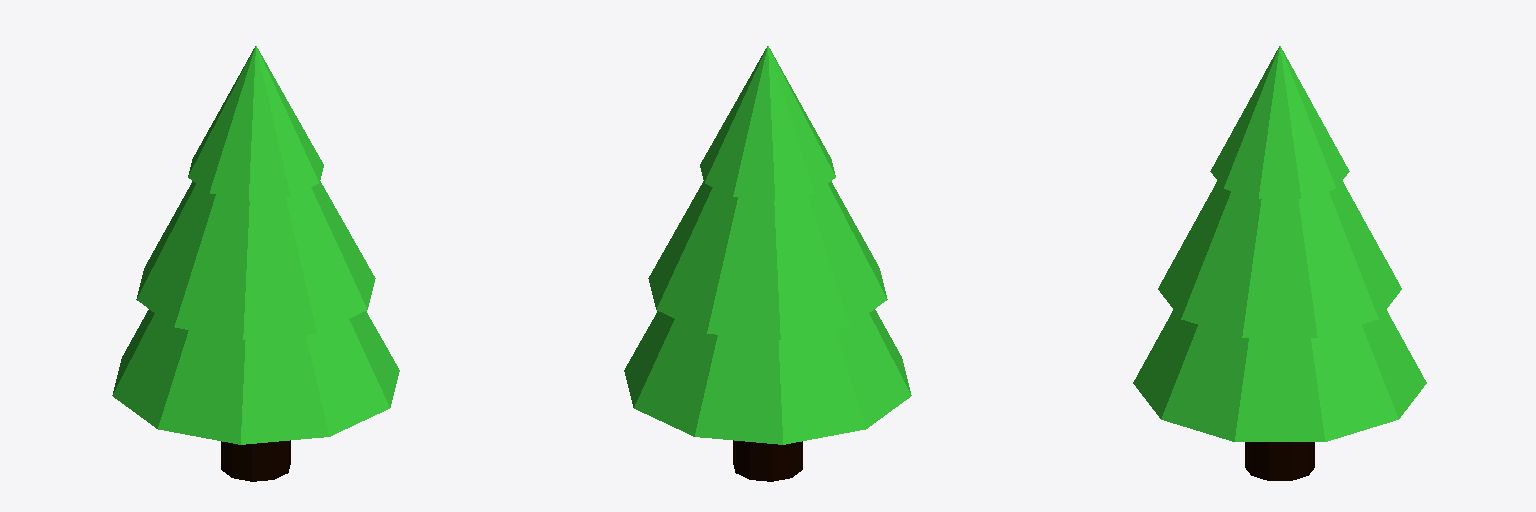
File: tree.obj
The picture shows the model from 3 angles: view 1: azimuth 30°, elevation 25°; view 2: azimuth 150°, elevation 25°; view 3: azimuth 270°, elevation 25°; orthographic projection.
Visible parts, largest first — view 1: Cone.001_Cone.002, Cone.002_Cone.003, Cone_Cone.001, Cylinder; view 2: Cone.001_Cone.002, Cone.002_Cone.003, Cone_Cone.001, Cylinder; view 3: Cone.001_Cone.002, Cone.002_Cone.003, Cone_Cone.001, Cylinder.
Part boxes in pixels (x1,y1,x2,y2): Cone.001_Cone.002: (136,181,375,339); Cone.002_Cone.003: (112,309,399,444); Cone_Cone.001: (188,46,323,200); Cylinder: (221,440,290,481); Cone.001_Cone.002: (648,181,887,339); Cone.002_Cone.003: (624,309,911,444); Cone_Cone.001: (700,46,835,200); Cylinder: (733,440,802,481); Cone.001_Cone.002: (1158,181,1401,337); Cone.002_Cone.003: (1133,310,1426,441); Cone_Cone.001: (1210,46,1349,198); Cylinder: (1245,442,1314,480).
Bounding box in the file's own units: 4.01 × 6.68 × 4.22.